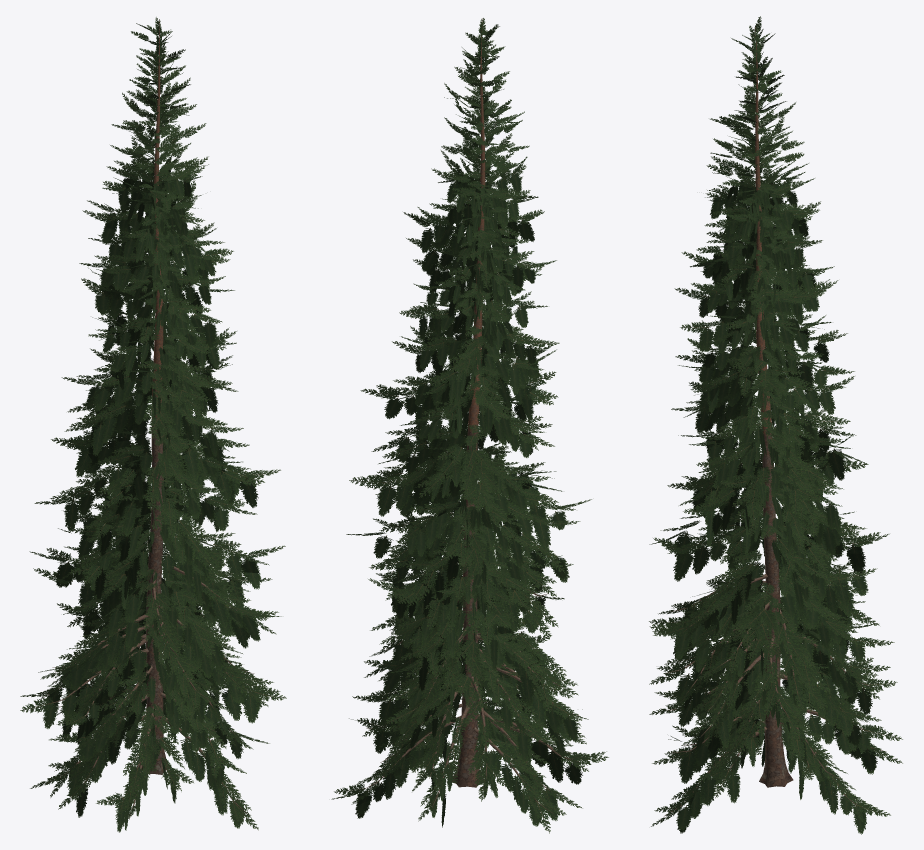
The model's file is spruce_c_LOD0.glb.
The picture shows the model from 3 angles, left to right: view 1: azimuth 30°, elevation 25°; view 2: azimuth 150°, elevation 25°; view 3: azimuth 270°, elevation 25°; orthographic projection.
Visible parts, largest first — view 1: Spruce_C_LOD0_Foliage, Spruce_C_LOD0_Bark; view 2: Spruce_C_LOD0_Foliage, Spruce_C_LOD0_Bark; view 3: Spruce_C_LOD0_Foliage, Spruce_C_LOD0_Bark.
Part boxes in pixels (x1,y1,x2,y2): Spruce_C_LOD0_Foliage: (20,17,286,832); Spruce_C_LOD0_Bark: (44,19,259,819); Spruce_C_LOD0_Foliage: (331,18,608,833); Spruce_C_LOD0_Bark: (365,19,579,813); Spruce_C_LOD0_Foliage: (649,16,902,834); Spruce_C_LOD0_Bark: (664,26,886,816).
Bounding box in the file's own units: 9.65 × 29.48 × 9.03.
Materials: 2 (2 with a texture image).
